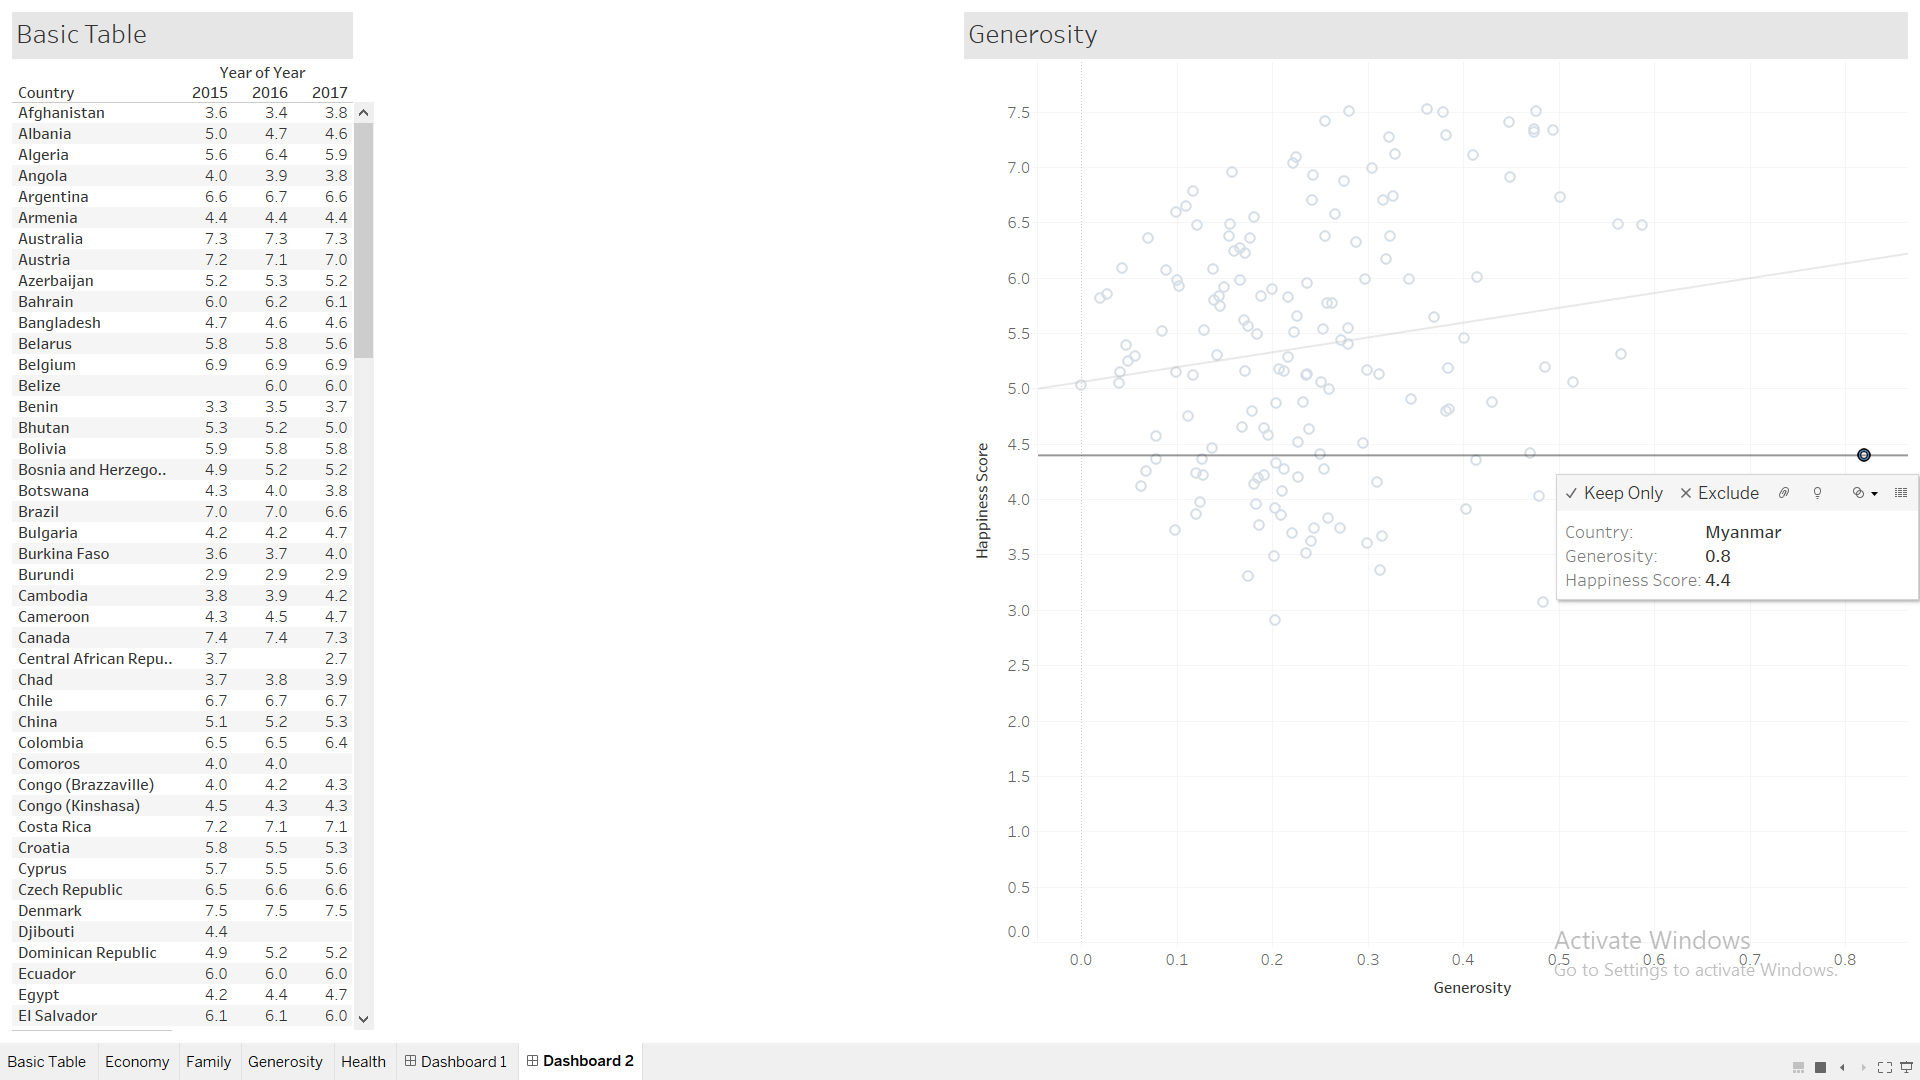

What the dashboard file says about the page in this screenshot:
{"tool":"tableau","page":{"name":"Dashboard 2","canvas":[1000,800],"ordinal":1},"visuals":[{"type":"worksheet","box":[0,0,1000,800]},{"type":"worksheet","title":"Basic Table","mark":"Automatic","rows":["Country"],"cols":["Year"],"box":[8,8,492,784]},{"type":"worksheet","title":"Generosity","mark":"Automatic","rows":["Happiness Score"],"cols":["Generosity"],"box":[500,8,492,784]}]}

Visuals, with their boxes on the page's 1000x800 design canvas (x1, y1, x2, y2). These are canvas units, not pixel positions in the 1920x1080 screenshot, which may show the page scaled, cropped or inside an application window:
worksheet: 0 0 1000 800
"Basic Table" worksheet: 8 8 500 792
"Generosity" worksheet: 500 8 992 792
